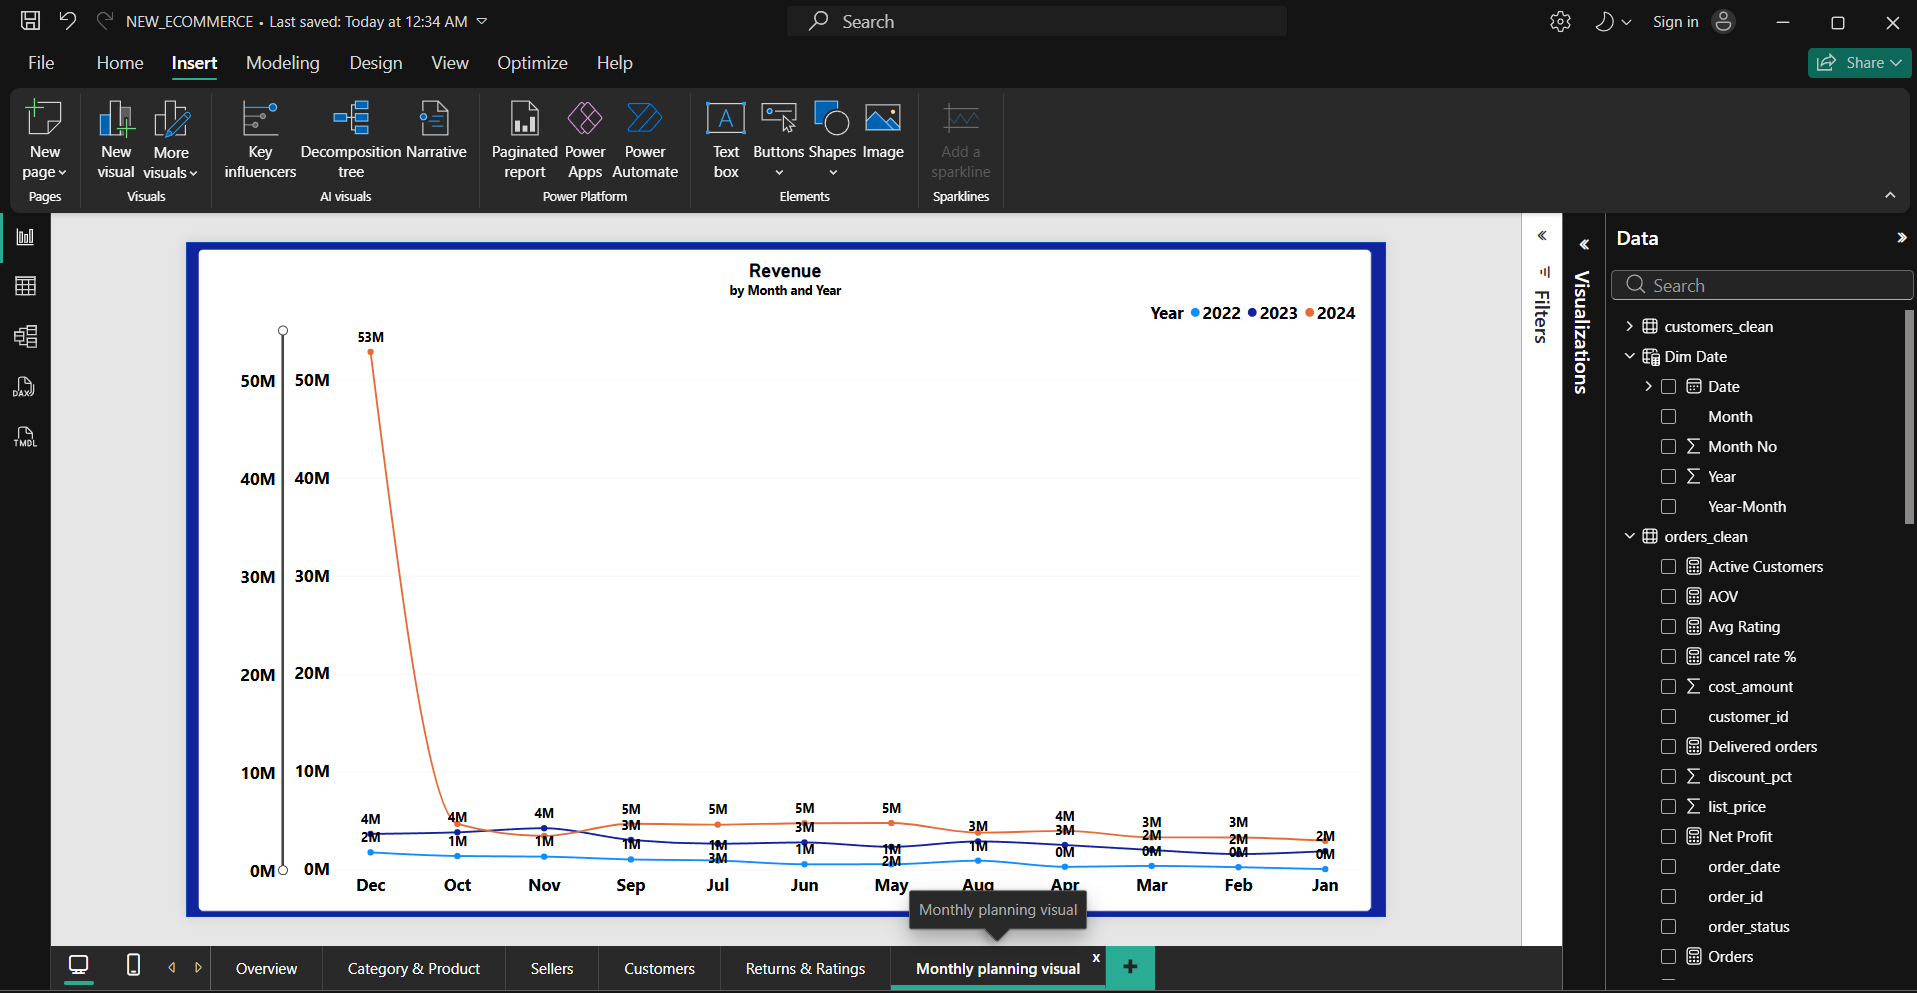

This screenshot's page, from the dashboard's own definition file:
{"tool":"powerbi","page":{"name":"Monthly planning visual","canvas":[1920,1080],"ordinal":5},"visuals":[{"type":"shape","box":[0,0,1920.5,1080.5],"z":0},{"type":"lineChart","fields":{"Category":["Dim Date.Month"],"Y":["orders_clean.Revenue"],"Series":["Dim Date.Year"]},"box":[20.1,11.1,1875.9,1058.3],"z":1}]}

Visuals, with their boxes on the page's 1920x1080 design canvas (x1, y1, x2, y2). These are canvas units, not pixel positions in the 1917x993 screenshot, which may show the page scaled, cropped or inside an application window:
shape: box(0, 0, 1920, 1080)
lineChart - Dim Date.Month x orders_clean.Revenue: box(20, 11, 1896, 1069)
